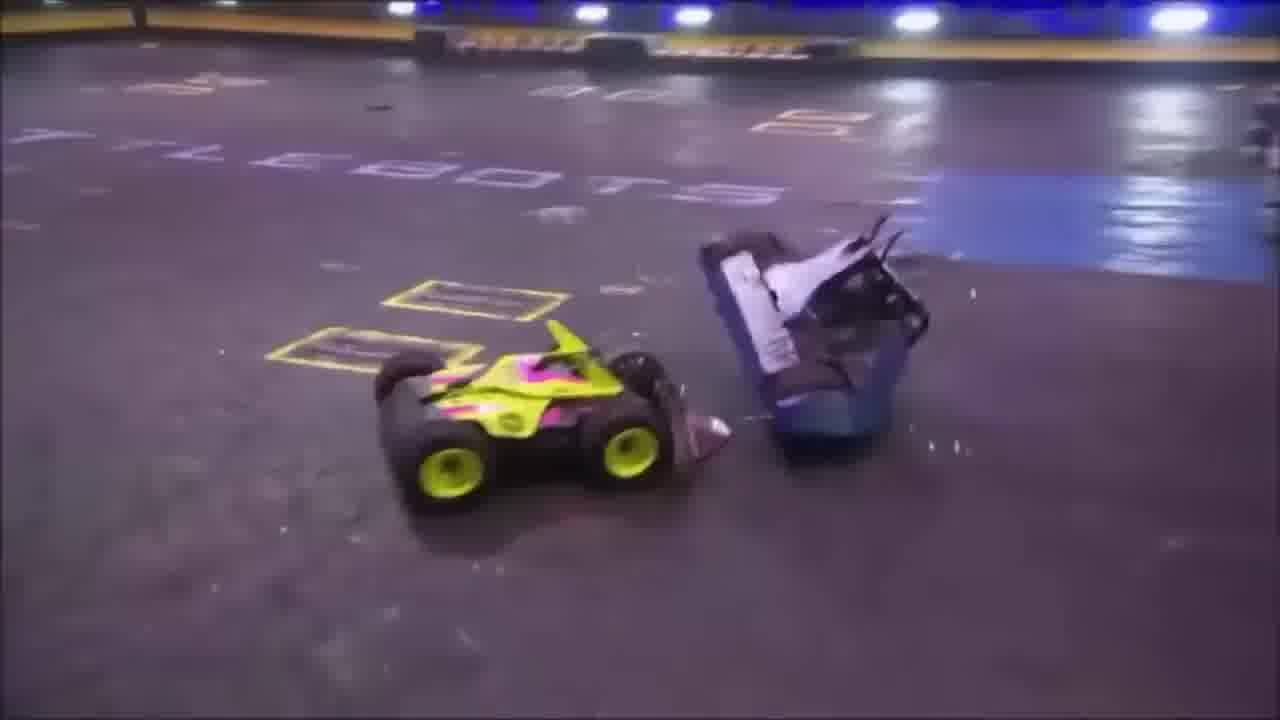combatbot: (379, 318, 712, 513), (701, 203, 932, 459)
